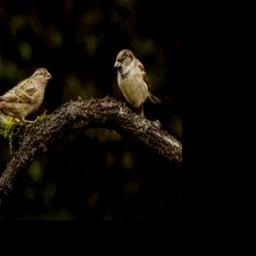Sparrow: (113, 49, 162, 119), (0, 65, 52, 122)
